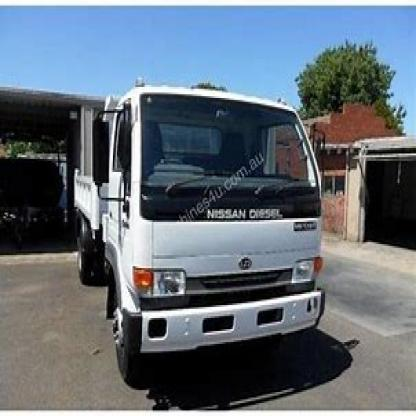dump_truck: (60, 61, 370, 383)
